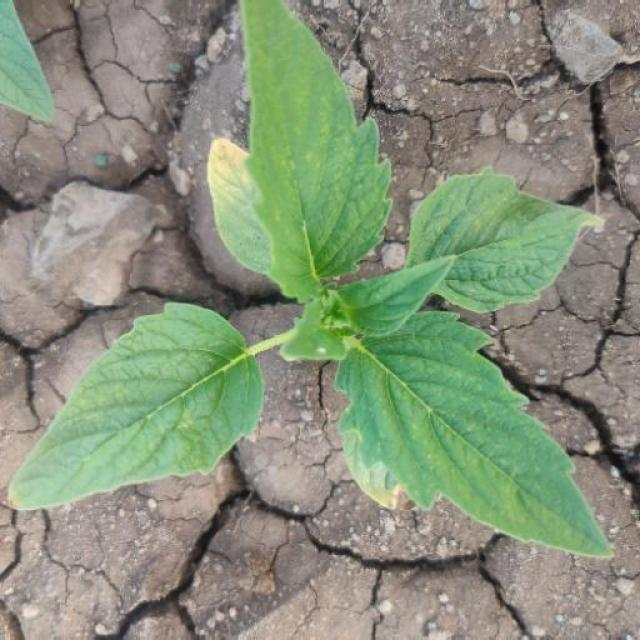crop: (30, 6, 612, 564)
